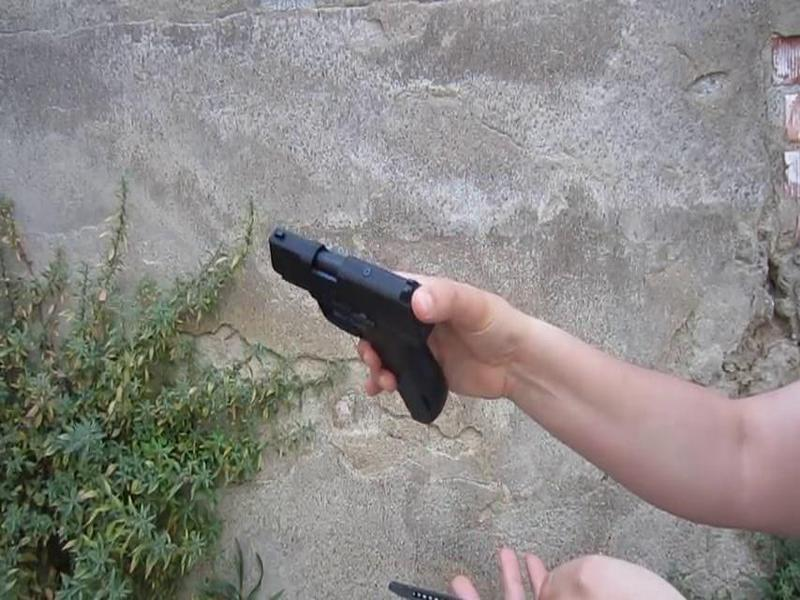Pistola: (266, 208, 452, 440)
